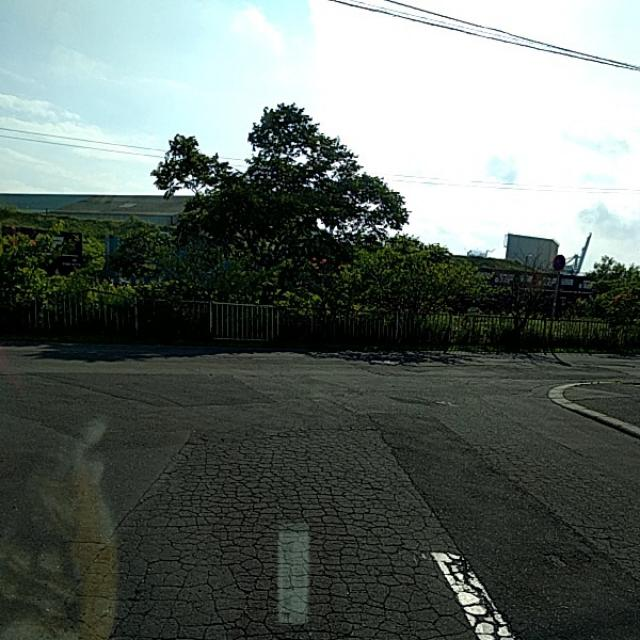pothole: (159, 381, 506, 639)
